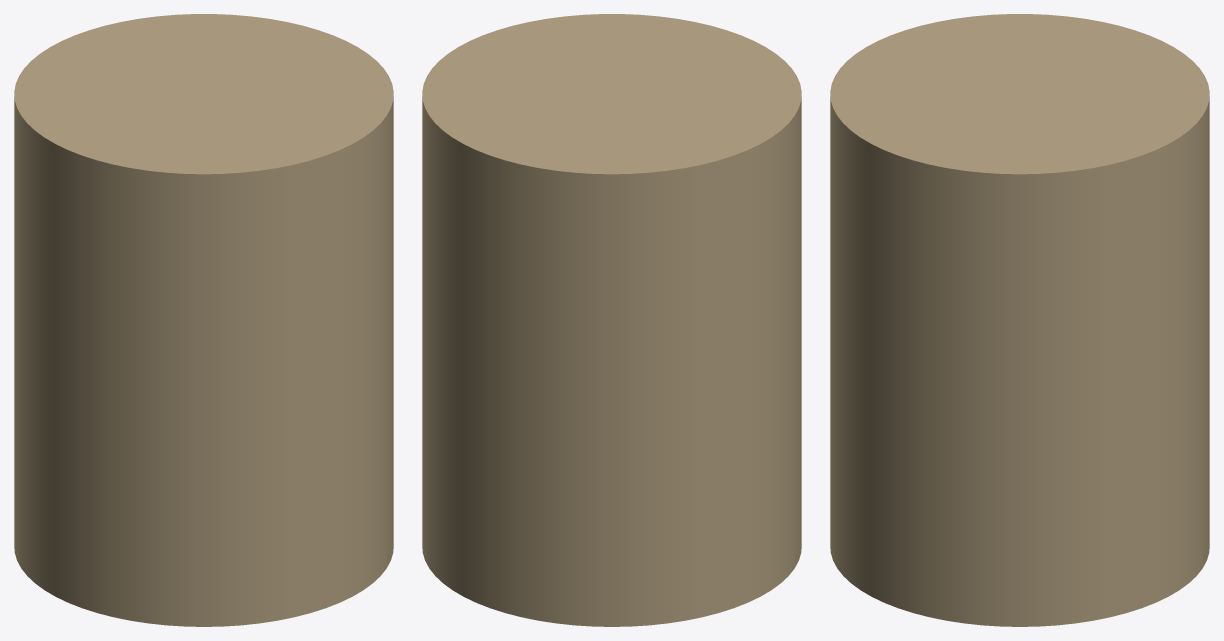
File: step_01.glb
3 views of the same model, side by side, from view 1: azimuth 30°, elevation 25°; view 2: azimuth 150°, elevation 25°; view 3: azimuth 270°, elevation 25° (orthographic).
Parts seen in each view (by area): view 1: part__pintle bush; view 2: part__pintle bush; view 3: part__pintle bush.
Boxes of the visible parts, box(x1,y1,x2,y2) form: part__pintle bush: box(14, 14, 393, 626); part__pintle bush: box(422, 14, 801, 626); part__pintle bush: box(830, 14, 1209, 626).
Bounding box in the file's own units: 190 × 250 × 190.
